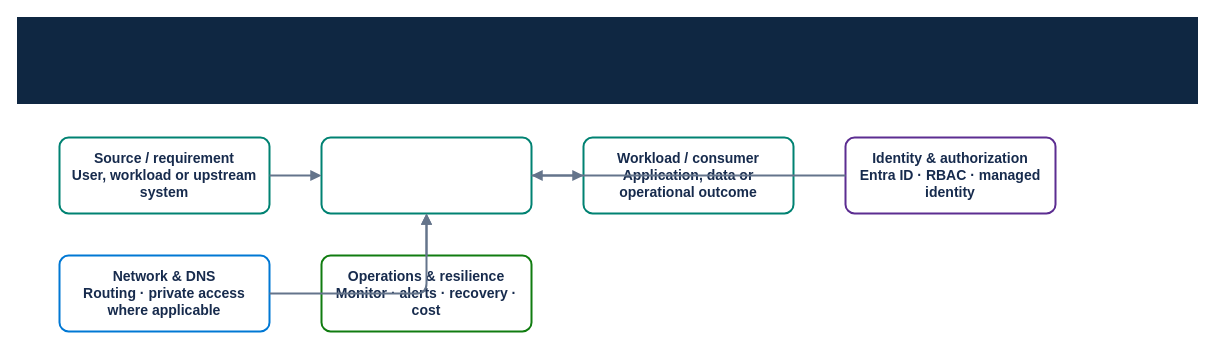
Image size: 1215x350. Some labels were removed from this diagram. The centre of each missing label's shape, as x and y in pixels:
SQL Server on Azure VMs: point (607, 60)
SQL Server on Azure VMs Azure service / architecture control: point (426, 175)
